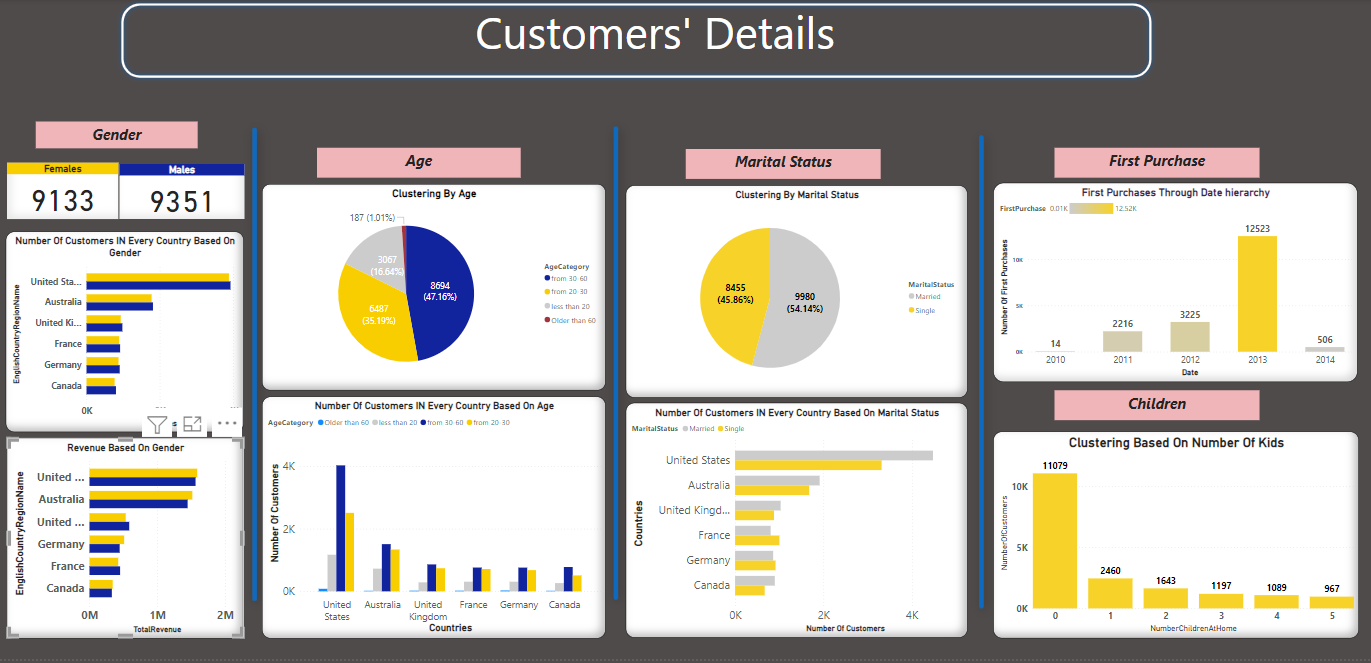

What the dashboard file says about the page in this screenshot:
{"tool":"powerbi","page":{"name":"Customers","canvas":[2500,1200],"ordinal":1},"visuals":[{"type":"columnChart","title":"First Purchases Through Date hierarchy","fields":{"Category":["DimDate.FullDateAlternateKey.Variation.Date Hierarchy.Year","DimDate.FullDateAlternateKey.Variation.Date Hierarchy.Quarter","DimDate.FullDateAlternateKey.Variation.Date Hierarchy.Month","DimDate.FullDateAlternateKey.Variation.Date Hierarchy.Day"],"Y":["DimCustomer.FirstPurchase"]},"box":[1810.8,335.1,662.2,362.2],"z":0},{"type":"card","title":"Males","fields":{"Values":["measures .NumberOfCustomers"]},"box":[221.6,300,227,100],"z":1000},{"type":"card","title":"Females","fields":{"Values":["measures .NumberOfCustomers"]},"box":[18.9,297.3,202.7,102.7],"z":2000},{"type":"clusteredBarChart","title":"Number Of Customers IN Every Country Based On Gender","fields":{"Category":["DimGeography.EnglishCountryRegionName"],"Y":["measures .NumberOfCustomers"],"Series":["DimCustomer.Gender"]},"box":[16.2,421.6,432.4,364.9],"z":3000},{"type":"shape","box":[394,208.5,150,910.2],"z":4000},{"type":"textbox","box":[70.3,221.6,294.6,48.6],"z":5000},{"type":"clusteredBarChart","title":"Revenue Based On Gender","fields":{"Y":["measures .TotalRevenue"],"Series":["DimCustomer.Gender"],"Category":["DimGeography.EnglishCountryRegionName"]},"box":[18.9,797.3,429.7,364.9],"z":6000},{"type":"textbox","box":[581.1,270.3,370.3,54.1],"z":7000},{"type":"pieChart","title":"Clustering By Age","fields":{"Category":["DimCustomer.AgeCategory"],"Y":["measures .NumberOfCustomers"]},"box":[481.7,336.7,625,375],"z":8000},{"type":"clusteredColumnChart","title":"Number Of Customers IN Every Country Based On Age","fields":{"Category":["DimGeography.EnglishCountryRegionName"],"Y":["measures .NumberOfCustomers"],"Series":["DimCustomer.AgeCategory"]},"box":[481.7,723.3,625,440],"z":9000},{"type":"shape","box":[1051,205.8,150,910.3],"z":10000},{"type":"textbox","box":[1251.4,273,354.1,54.1],"z":11000},{"type":"pieChart","title":"Clustering By Marital Status","fields":{"Y":["measures .NumberOfCustomers"],"Category":["DimCustomer.MaritalStatus"]},"box":[1143.2,337.8,621.6,386.5],"z":12000},{"type":"clusteredBarChart","title":"Number Of Customers IN Every Country Based On Marital Status","fields":{"Category":["DimGeography.EnglishCountryRegionName"],"Y":["measures .NumberOfCustomers"],"Series":["DimCustomer.MaritalStatus"]},"box":[1143.2,735.1,621.6,427],"z":13000},{"type":"shape","box":[1715.8,221.8,148.1,910.7],"z":14000},{"type":"textbox","box":[1921.6,270.3,373,54.1],"z":15000},{"type":"textbox","box":[1921.6,710.8,373,54.1],"z":16000},{"type":"clusteredColumnChart","title":"Clustering Based On Number Of Kids","fields":{"Category":["DimCustomer.NumberChildrenAtHome"],"Y":["measures .NumberOfCustomers"]},"box":[1810.8,786.5,664.9,375.7],"z":17000},{"type":"shape","box":[218.9,0,1889.2,151.4],"z":18000},{"type":"textbox","box":[767.6,0,856.8,151.4],"z":19000}]}

Visuals, with their boxes in screenshot pixels (x1, y1, x2, y2), scaled from the page's 2500x1200 canvas onto the 1371x663 screenshot:
"First Purchases Through Date hierarchy" columnChart: <box>993,185,1356,385</box>
"Males" card: <box>122,166,246,221</box>
"Females" card: <box>10,164,122,221</box>
"Number Of Customers IN Every Country Based On Gender" clusteredBarChart: <box>9,233,246,435</box>
shape: <box>216,115,298,618</box>
textbox: <box>39,122,200,149</box>
"Revenue Based On Gender" clusteredBarChart: <box>10,441,246,642</box>
textbox: <box>319,149,522,179</box>
"Clustering By Age" pieChart: <box>264,186,607,393</box>
"Number Of Customers IN Every Country Based On Age" clusteredColumnChart: <box>264,400,607,643</box>
shape: <box>576,114,659,617</box>
textbox: <box>686,151,880,181</box>
"Clustering By Marital Status" pieChart: <box>627,187,968,400</box>
"Number Of Customers IN Every Country Based On Marital Status" clusteredBarChart: <box>627,406,968,642</box>
shape: <box>941,123,1022,626</box>
textbox: <box>1054,149,1258,179</box>
textbox: <box>1054,393,1258,423</box>
"Clustering Based On Number Of Kids" clusteredColumnChart: <box>993,435,1358,642</box>
shape: <box>120,0,1156,84</box>
textbox: <box>421,0,891,84</box>
